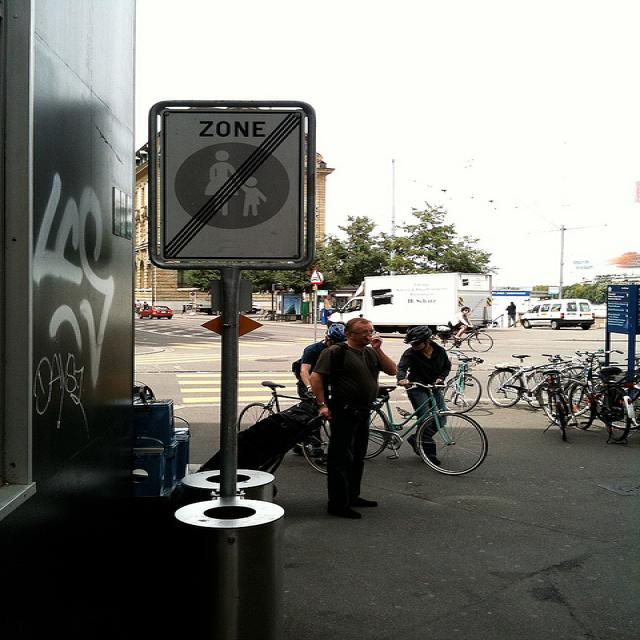Vehicle: (327, 274, 491, 331), (521, 298, 596, 332), (521, 298, 595, 331), (138, 306, 174, 320), (195, 300, 217, 316)
